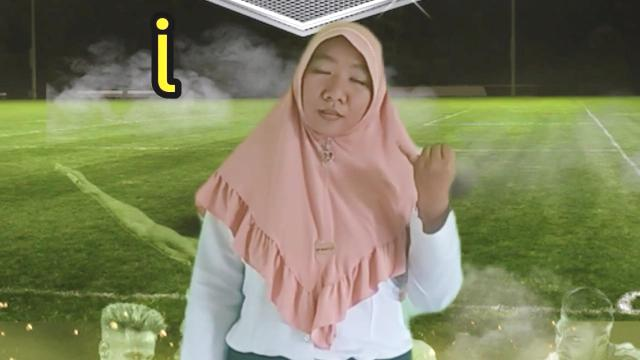J: (394, 134, 456, 207)
